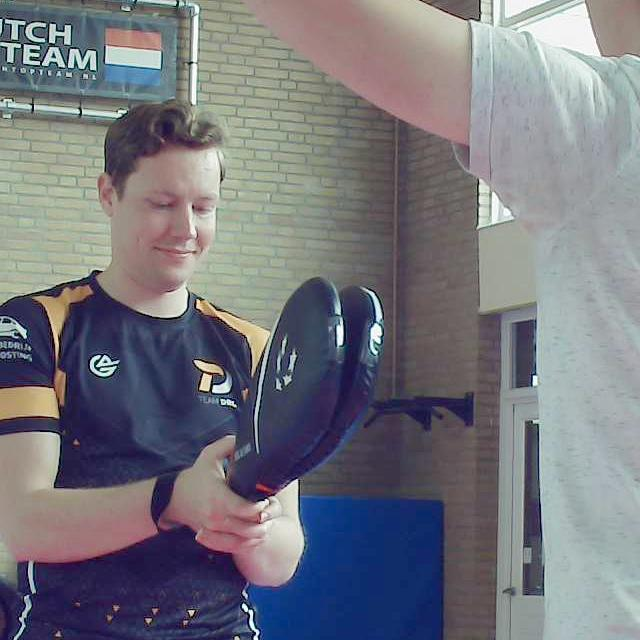paddle: (226, 278, 386, 501)
